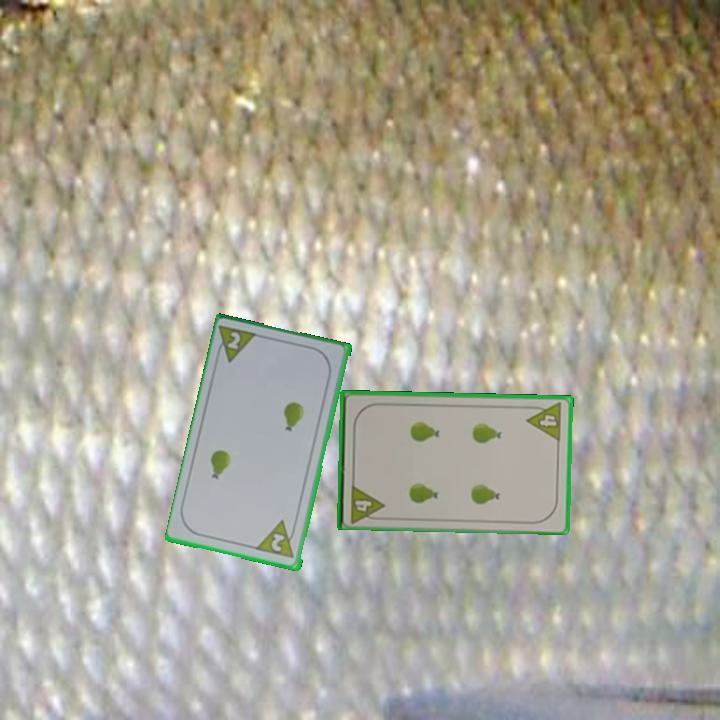2p: (212, 322, 262, 366), (268, 530, 288, 555)
4p: (523, 399, 565, 444), (347, 480, 386, 525)
